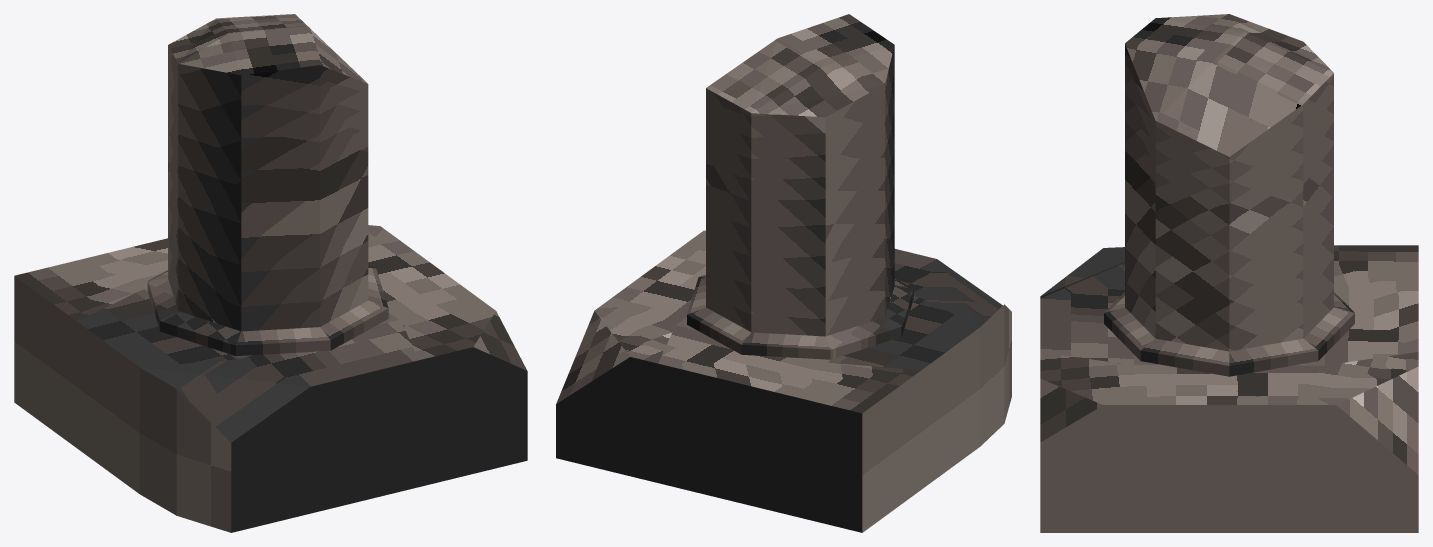
File: broken_pillar_544x00.gltf
The picture shows the model from 3 angles, left to right: view 1: azimuth 30°, elevation 25°; view 2: azimuth 150°, elevation 25°; view 3: azimuth 270°, elevation 25°; orthographic projection. The views are drawn at different scales.
Visible parts, largest first — view 1: broken_pillar_544x00; view 2: broken_pillar_544x00; view 3: broken_pillar_544x00.
Boxes of the visible parts, left/top/right/bottom form: broken_pillar_544x00: left=14, top=14, right=527, bottom=532; broken_pillar_544x00: left=556, top=14, right=1011, bottom=532; broken_pillar_544x00: left=1040, top=14, right=1418, bottom=532.
Size of the model in its own units: 1.42 by 1.69 by 1.42.
1 material, 1 textured.
